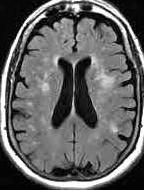Normal_Brain: (3, 1, 144, 190)
